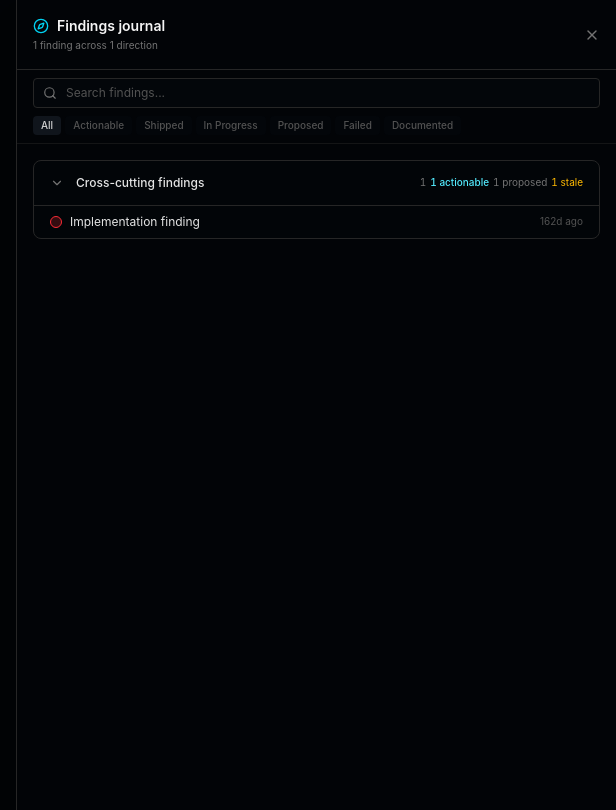
ResearchBrowser findings_documented filter › shows metadata findings only under Documented filter
Expected: the text "Implementation finding" is shown, [70, 214, 200, 228]
Expected: the text "Design observation" is not shown
# Switch to Documented filter.
Click the button "Documented" at (422, 126), box [384, 116, 461, 135]
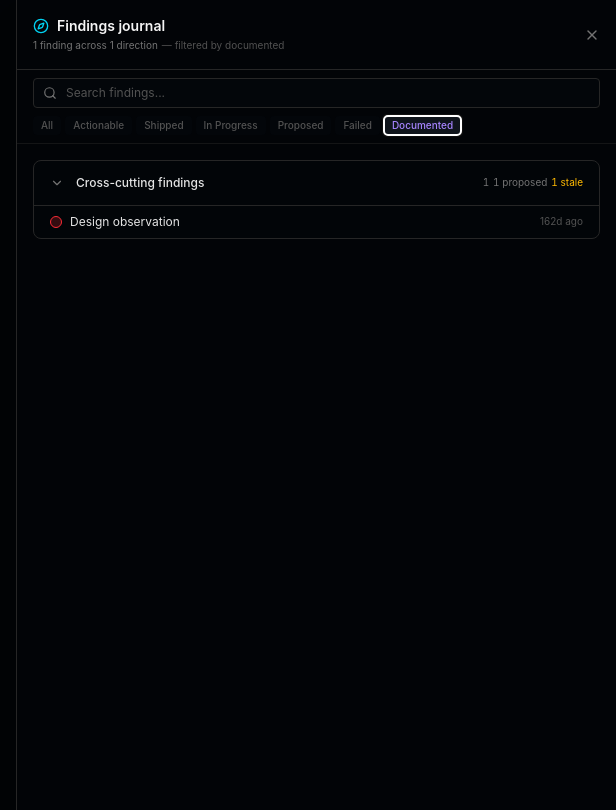
Now the text "Design observation" is shown, box [70, 214, 180, 228]
Now the button "Implementation finding" is gone
